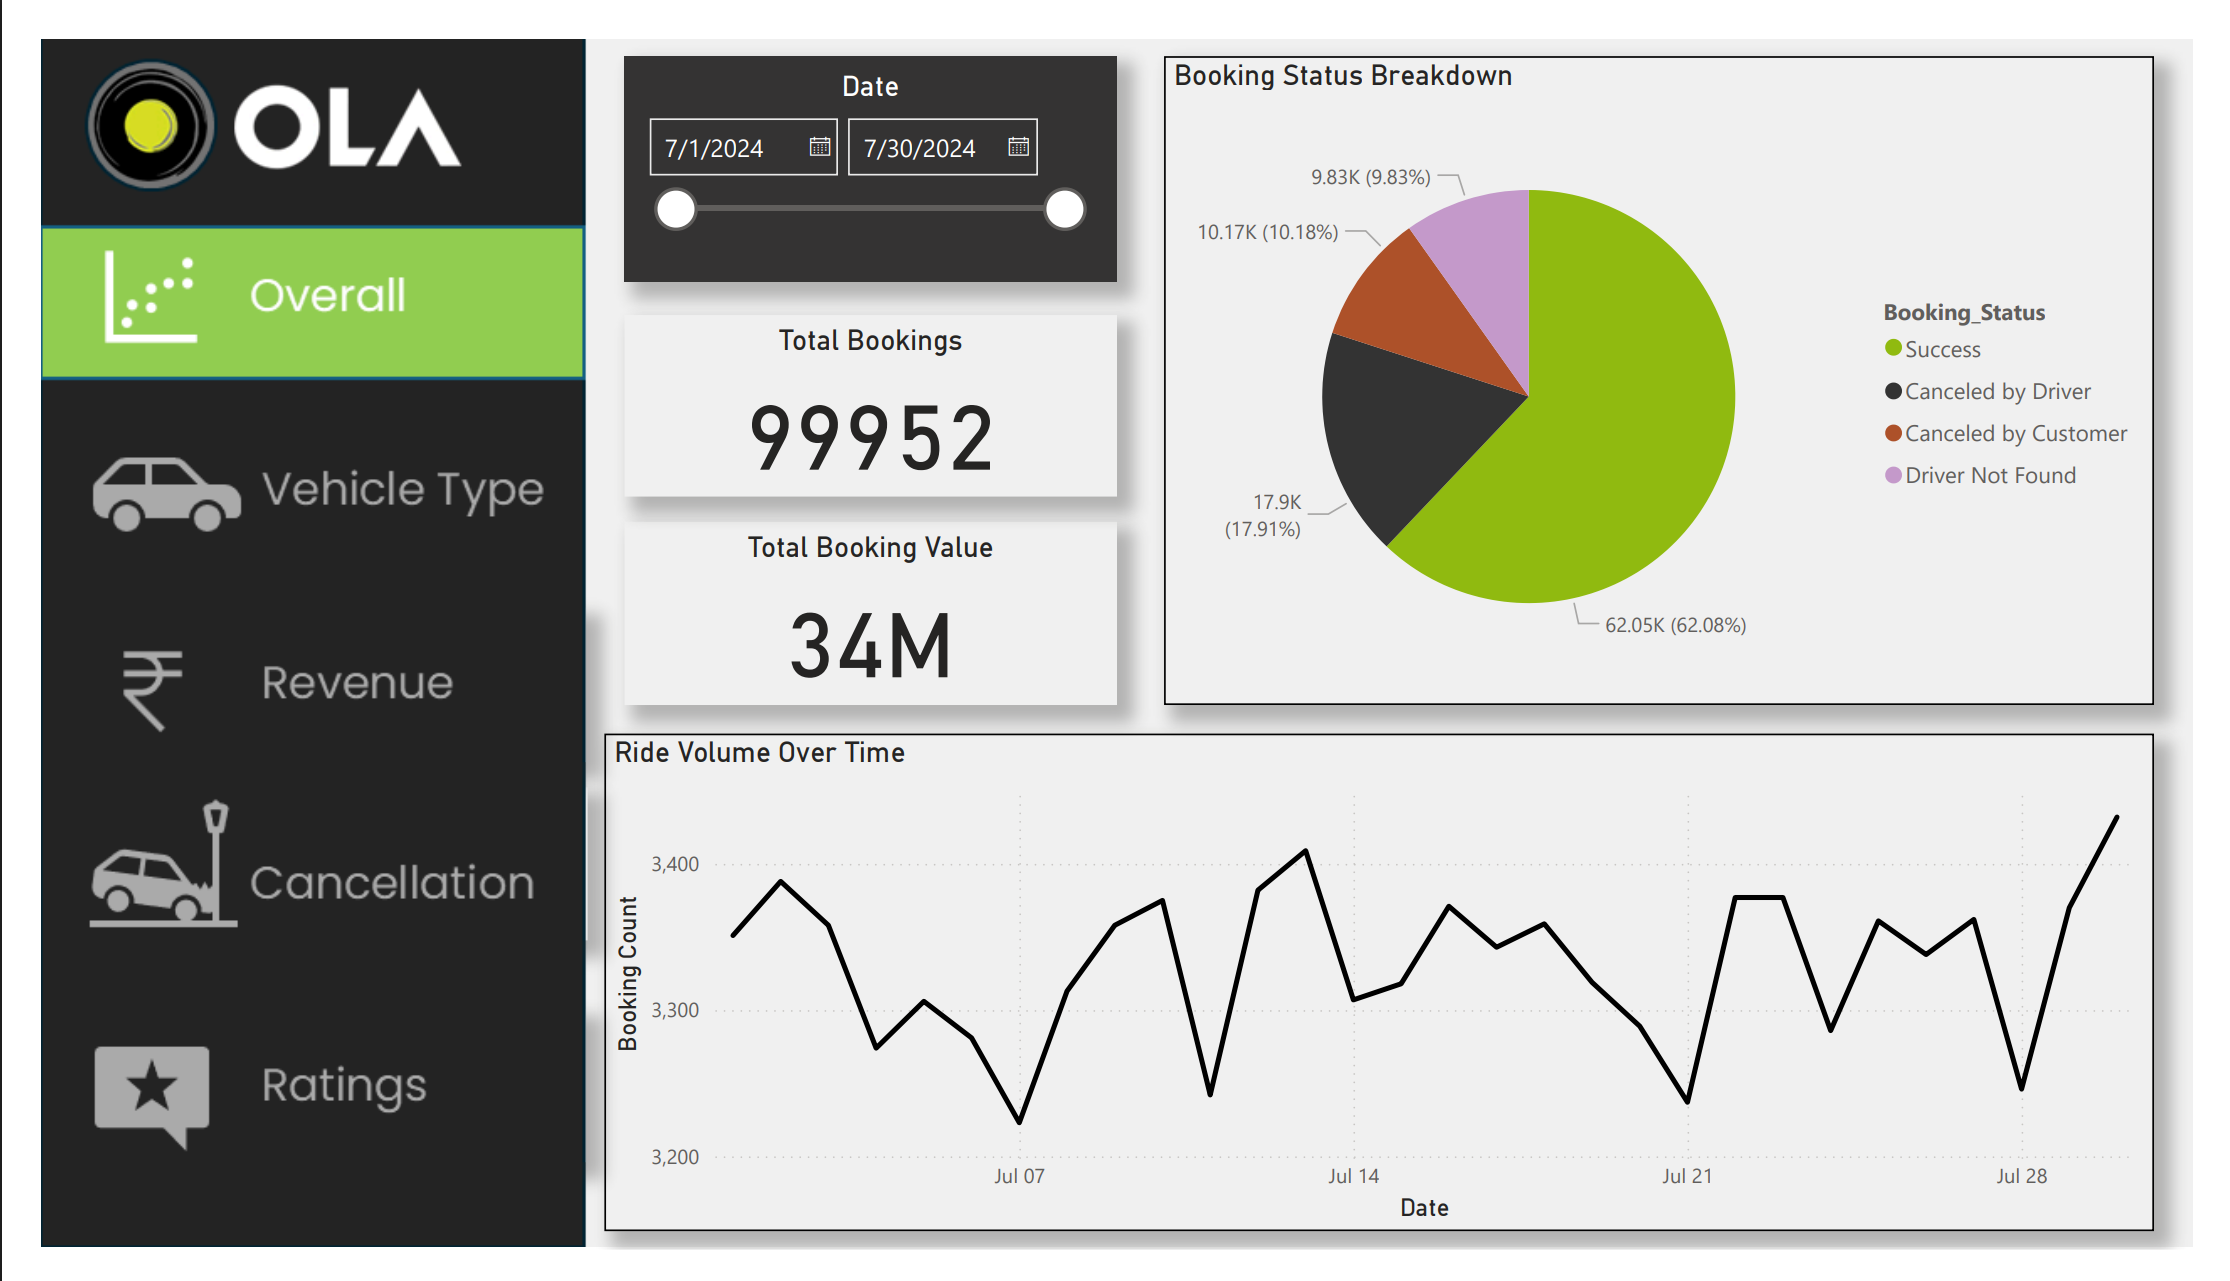

The page's visual inventory and layout, read from the dashboard file:
{"tool":"powerbi","page":{"name":"Overall ","canvas":[1280,720],"ordinal":0},"visuals":[{"type":"actionButton","box":[0,225.9,325,92.4],"z":0},{"type":"actionButton","box":[0,576.6,323.9,91.3],"z":1000},{"type":"actionButton","box":[1.1,445.2,323.9,91.3],"z":2000},{"type":"actionButton","box":[0,338.4,323.9,91.3],"z":3000},{"type":"lineChart","title":"Ride Volume Over Time","fields":{"Y":["CountNonNull(July.Booking_ID)"],"Category":["July.Date"]},"box":[335.3,413.1,921.8,295.8],"z":4000},{"type":"pieChart","title":"Booking Status Breakdown","fields":{"Category":["July.Booking_Status"],"Y":["CountNonNull(July.Booking_ID)"]},"box":[668,10.2,589,386.3],"z":5000},{"type":"slicer","title":"Date","fields":{"Values":["July.Date"]},"box":[346.8,10.2,293.2,133.9],"z":6000},{"type":"card","title":"Total Bookings","fields":{"Values":["CountNonNull(July.Booking_ID)"]},"box":[346.8,164.5,293.2,107.1],"z":7000},{"type":"card","title":"Total Booking Value","fields":{"Values":["Sum(July.Booking_Value)"]},"box":[346.8,286.9,293.2,109.6],"z":8000}]}

Visuals, with their boxes in screenshot pixels (x1, y1, x2, y2), scaled from the page's 1280x720 canvas onto the 2230x1281 screenshot:
actionButton: locate(0, 402, 566, 566)
actionButton: locate(0, 1026, 564, 1188)
actionButton: locate(2, 792, 566, 955)
actionButton: locate(0, 602, 564, 765)
"Ride Volume Over Time" lineChart: locate(584, 735, 2190, 1261)
"Booking Status Breakdown" pieChart: locate(1164, 18, 2190, 705)
"Date" slicer: locate(604, 18, 1115, 256)
"Total Bookings" card: locate(604, 293, 1115, 483)
"Total Booking Value" card: locate(604, 510, 1115, 705)
